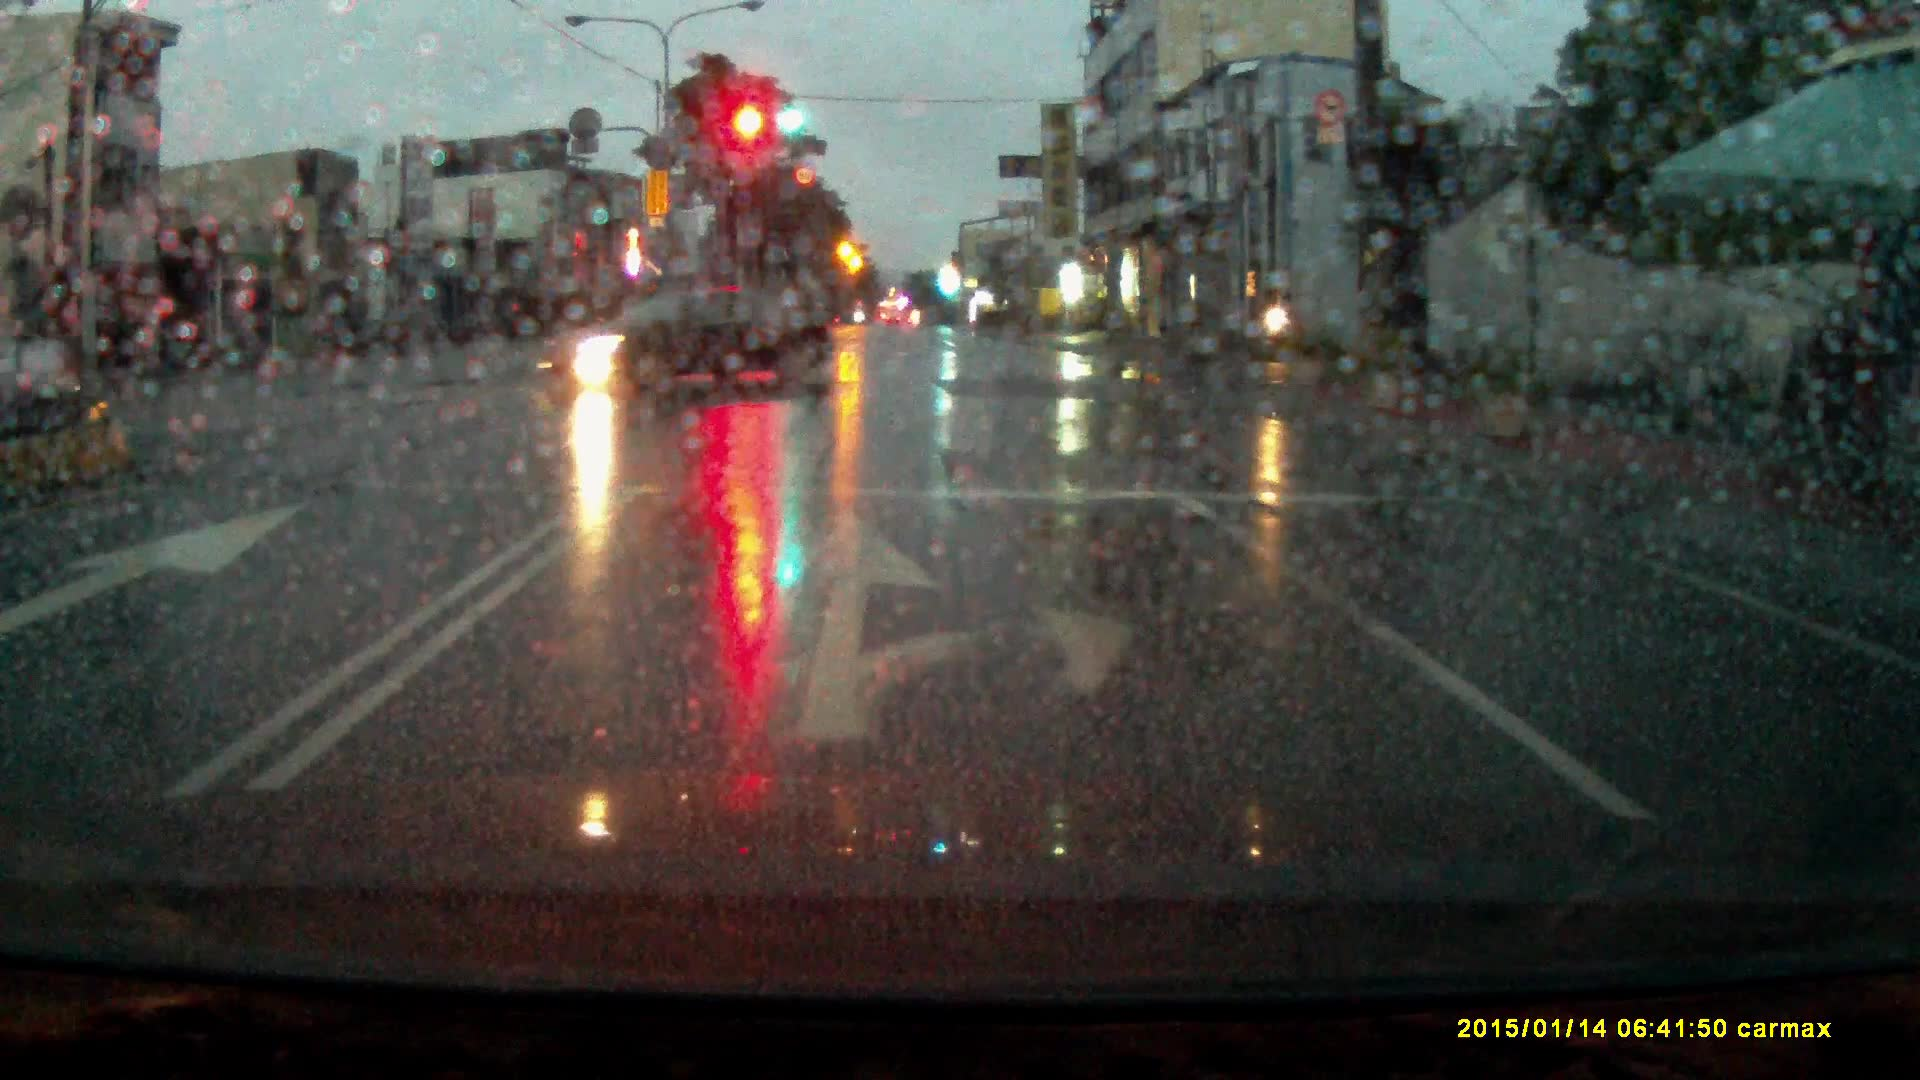rider: (1250, 278, 1313, 367)
vehicle: (529, 289, 840, 395)
